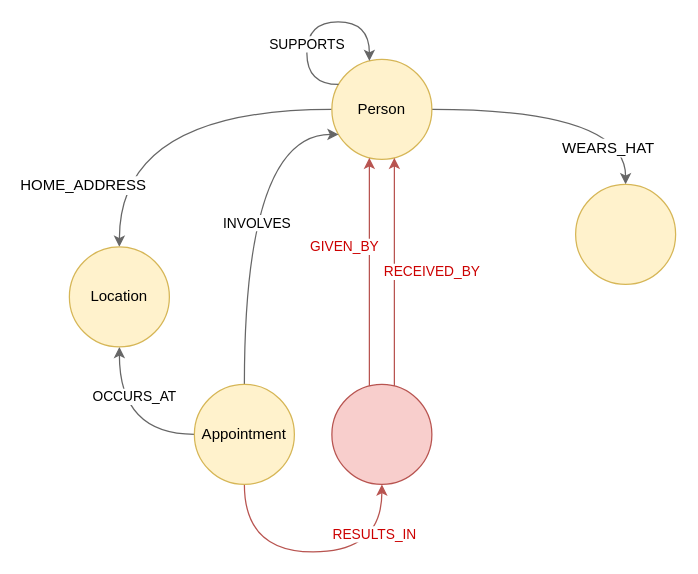
This 698x574 diagram has some shape labels left out. Each missing label, with the centre of its shape:
"Hat" goes at [625,233].
"Value Exchange" goes at [381,433].
